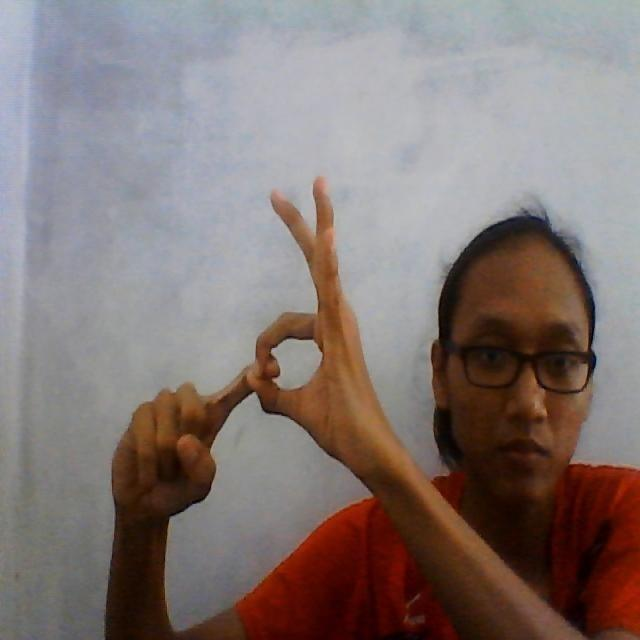Q: (105, 166, 362, 520)
